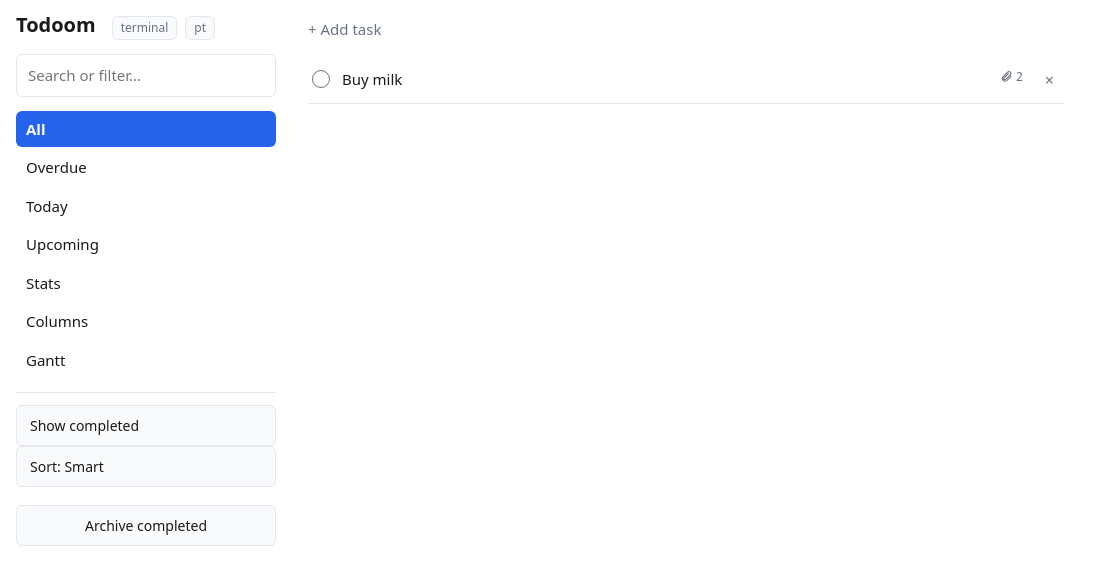
Test: attachments › opens the popover with the file names
The width and height of the screenshot is (1104, 563).
Click the button with class "task__attach".
click(1011, 76)  # box [996,68,1027,86]
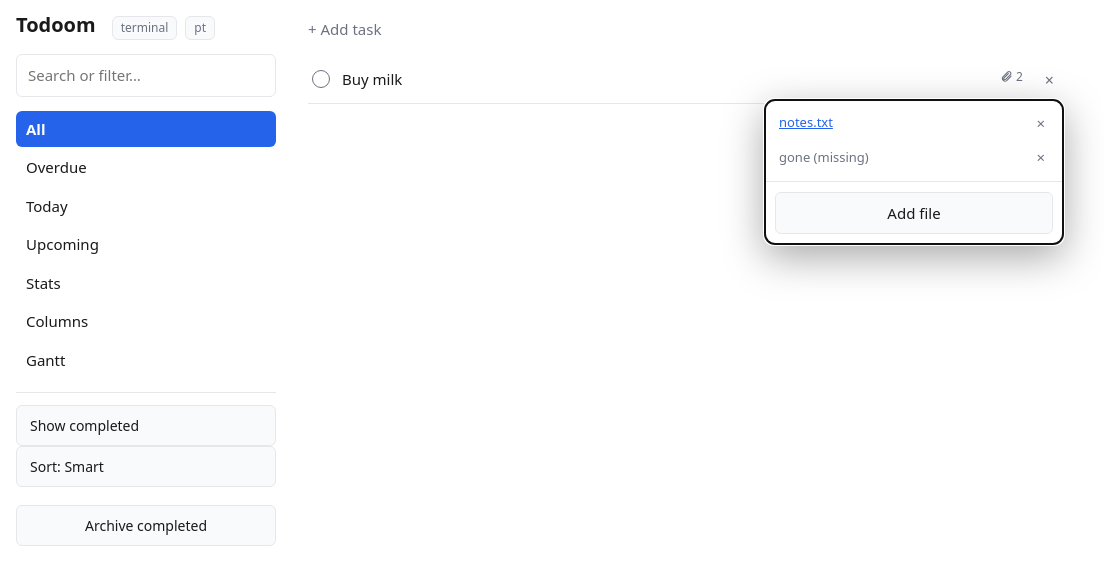
Expected: the element showing "notes.txt × gone (missing) × Add file" is shown, [764,98,1064,245]
